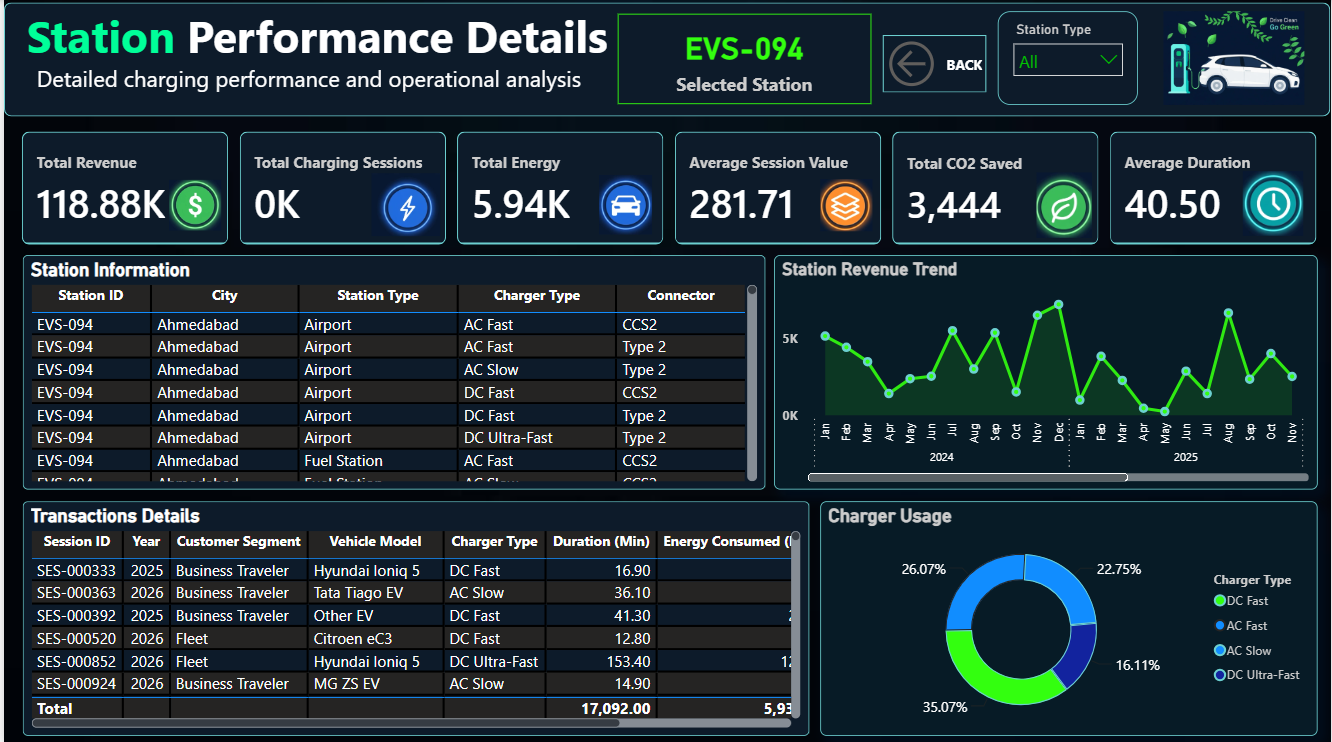

Layout of this report page (visuals, bound fields, positions):
{"tool":"powerbi","page":{"name":"Station Details","canvas":[1280,720],"ordinal":2},"visuals":[{"type":"shape","box":[0,2.2,1280,110],"z":0},{"type":"card","fields":{"Values":["EV Sessions.Selected Station"]},"box":[592.6,13.6,245.2,87.5],"z":1000},{"type":"textbox","box":[17.2,0,623.4,88.7],"z":2000},{"type":"textbox","box":[27.1,55.4,1095.2,61.6],"z":3000},{"type":"cardVisual","fields":{"Data":["EV Sessions.Total Revenue","EV Sessions.Total Charging Sessions","EV Sessions.Total Energy","EV Sessions.Average Session Value","EV Sessions.Total CO2 Saved","EV Sessions.Average Duration"]},"box":[8.9,117.8,1271.1,127.8],"z":4000},{"type":"tableEx","title":"Station Information","fields":{"Values":["EV Sessions.Station ID","EV Sessions.City","EV Sessions.Station Type","EV Sessions.Charger Type","EV Sessions.Connector"]},"box":[17.8,245.6,716.7,226.7],"z":5000},{"type":"lineChart","title":"Station Revenue Trend","fields":{"Category":["EV Sessions.Session Start.Variation.Date Hierarchy.Year","EV Sessions.Month Name"],"Y":["EV Sessions.Total Revenue"]},"box":[743.3,245.6,524.4,226.7],"z":6000},{"type":"tableEx","title":"Transactions Details","fields":{"Values":["EV Sessions.Session ID","EV Sessions.Session Start.Variation.Date Hierarchy.Year","EV Sessions.Customer Segment","EV Sessions.Vehicle Model","EV Sessions.Charger Type","Sum(EV Sessions.Duration (Min))","Sum(EV Sessions.Energy Consumed (kWh))","EV Sessions.Total Revenue","EV Sessions.Session Status"]},"box":[17.8,483.3,758.9,226.7],"z":7000},{"type":"donutChart","title":"Charger Usage","fields":{"Category":["EV Sessions.Charger Type"],"Y":["EV Sessions.Total Charging Sessions"]},"box":[787.8,483.3,480,226.7],"z":8000},{"type":"actionButton","box":[847.8,33.3,100,55.6],"z":9000},{"type":"image","box":[1094.3,10.7,186,90.6],"z":10000},{"type":"slicer","fields":{"Values":["EV Sessions.Station Type"]},"box":[958.9,11.1,135.6,90],"z":11000},{"type":"image","box":[159.7,149,50.7,96.5],"z":12000},{"type":"image","box":[355.2,149,66.8,96.6],"z":13000},{"type":"image","box":[574.6,149,51.3,96.6],"z":14000},{"type":"image","box":[787.9,150.2,50.1,96.6],"z":15000},{"type":"image","box":[996.5,149,53.6,96.6],"z":16000},{"type":"image","box":[1195.6,147.8,58.4,96.6],"z":17000}]}

Visuals, with their boxes in screenshot pixels (x1, y1, x2, y2), scaled from the page's 1280x720 canvas onto the 1332x742 screenshot:
shape: pyautogui.locateOnScreen(0, 2, 1331, 116)
card - EV Sessions.Selected Station: pyautogui.locateOnScreen(617, 14, 872, 104)
textbox: pyautogui.locateOnScreen(18, 0, 667, 91)
textbox: pyautogui.locateOnScreen(28, 57, 1168, 121)
cardVisual - EV Sessions.Total Revenue x EV Sessions.Total Charging Sessions: pyautogui.locateOnScreen(9, 121, 1331, 253)
"Station Information" tableEx: pyautogui.locateOnScreen(19, 253, 764, 487)
"Station Revenue Trend" lineChart: pyautogui.locateOnScreen(773, 253, 1319, 487)
"Transactions Details" tableEx: pyautogui.locateOnScreen(19, 498, 808, 732)
"Charger Usage" donutChart: pyautogui.locateOnScreen(820, 498, 1319, 732)
actionButton: pyautogui.locateOnScreen(882, 34, 986, 92)
image: pyautogui.locateOnScreen(1139, 11, 1331, 104)
slicer - EV Sessions.Station Type: pyautogui.locateOnScreen(998, 11, 1139, 104)
image: pyautogui.locateOnScreen(166, 154, 219, 253)
image: pyautogui.locateOnScreen(370, 154, 439, 253)
image: pyautogui.locateOnScreen(598, 154, 651, 253)
image: pyautogui.locateOnScreen(820, 155, 872, 254)
image: pyautogui.locateOnScreen(1037, 154, 1093, 253)
image: pyautogui.locateOnScreen(1244, 152, 1305, 252)
